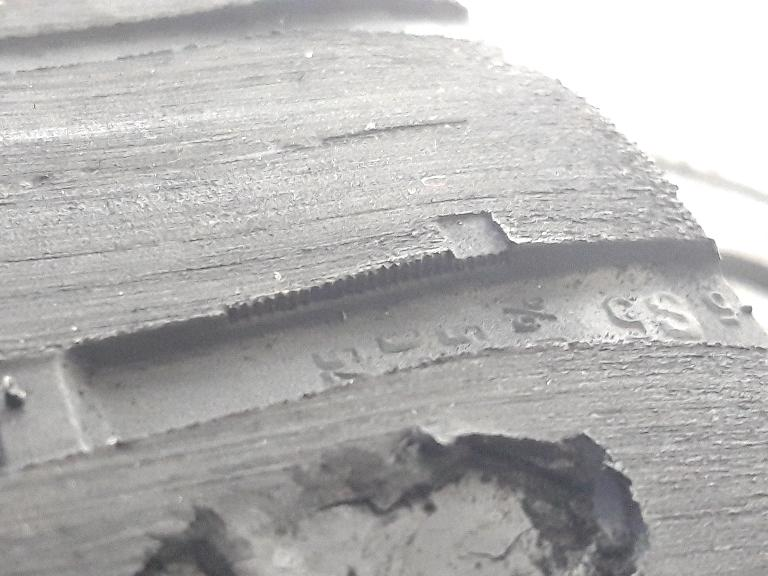temoin:0: (402, 204, 523, 302)
